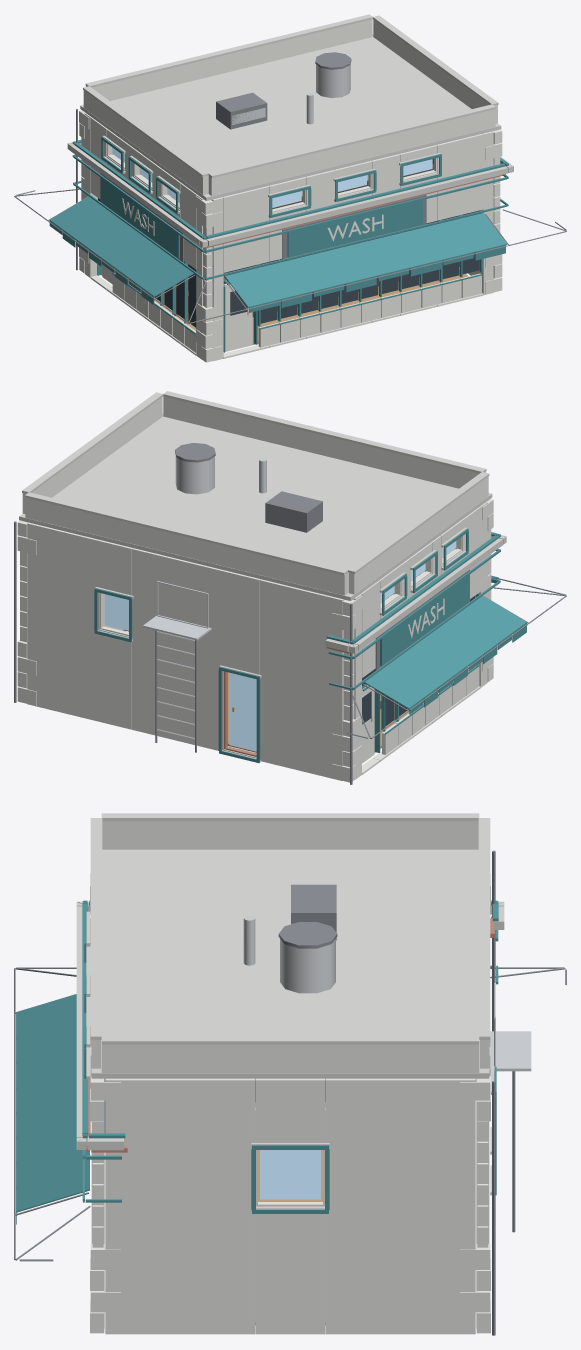
File: Store_Laundromat.fbx
3 renders of one model, top to bottom at view 1: azimuth 30°, elevation 25°; view 2: azimuth 150°, elevation 25°; view 3: azimuth 270°, elevation 25°, orthographic. The views are drawn at different scales.
Visible parts, largest first — view 1: LOD0; view 2: LOD0; view 3: LOD0.
Boxes of the visible parts, x1,y1,x2,y2 form: LOD0: [14, 14, 566, 362]; LOD0: [14, 391, 566, 784]; LOD0: [14, 813, 566, 1335].
Size of what is drawn, in the model's own units: 1186 by 613 by 946.
